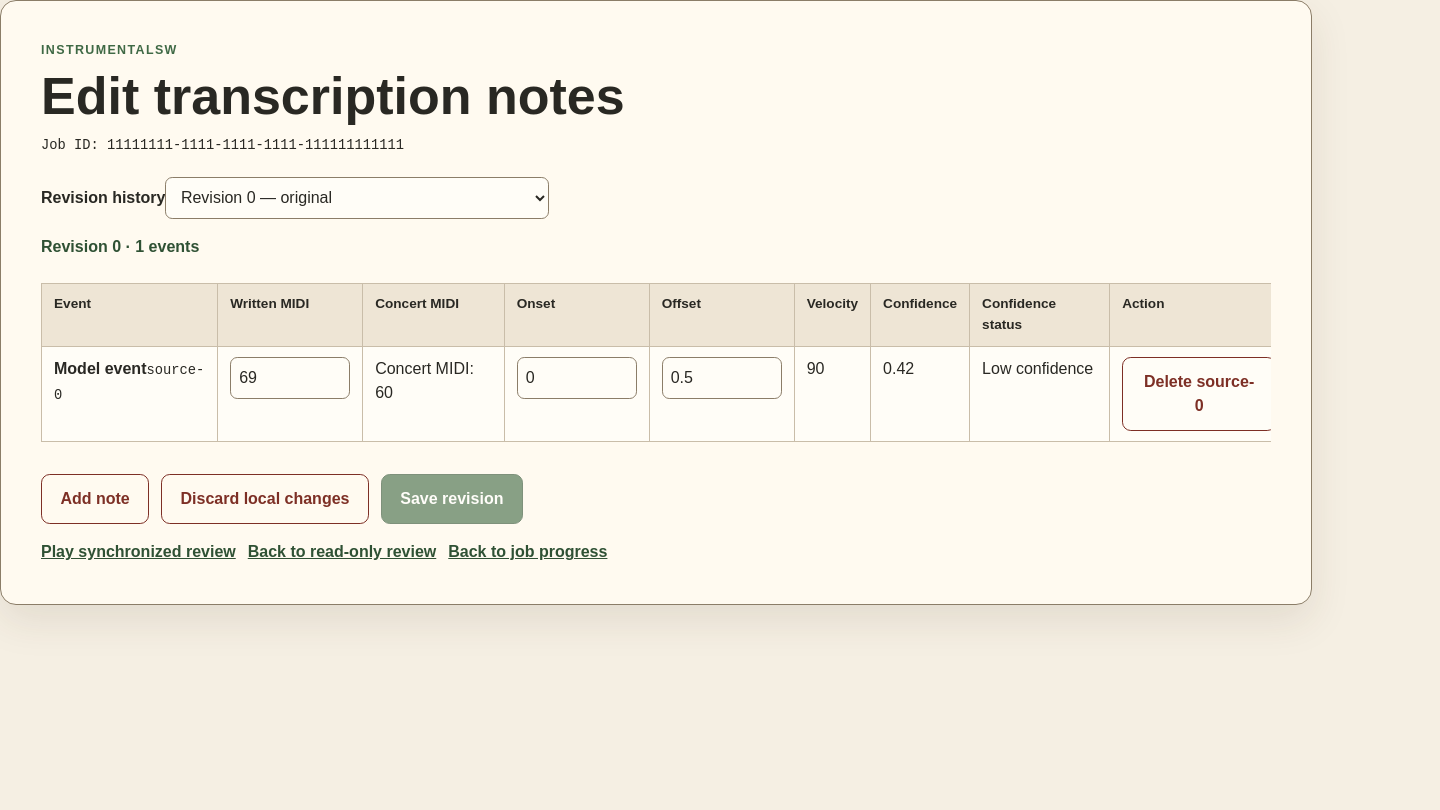
Test: TranscriptionRevisionEditor failure states › keeps the draft after a non-conflict save error
Clear the number field named "Written MIDI for source-0". click: (290,378)
box: x1=230 y1=357 x2=350 y2=399
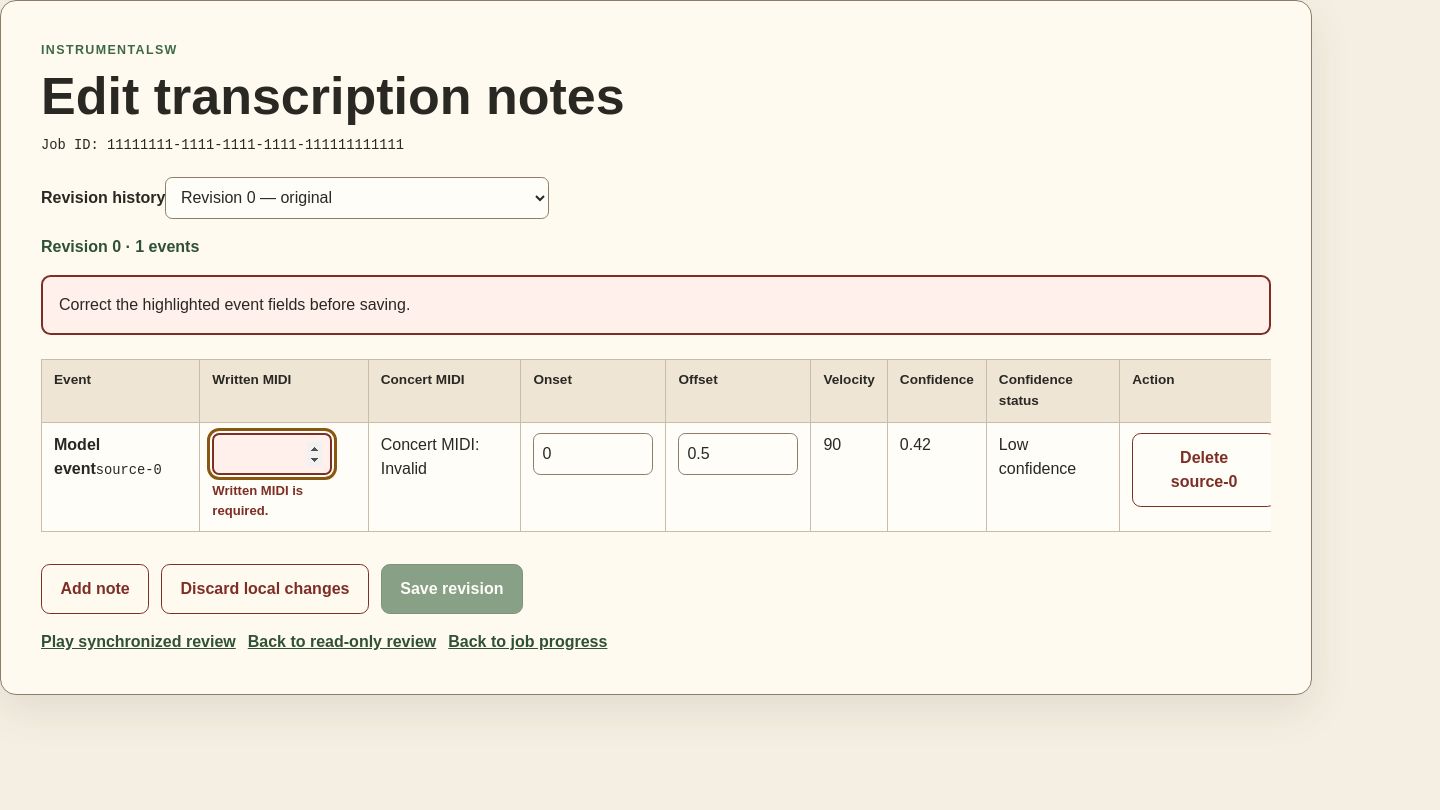
Type "70" into the number field named "Written MIDI for source-0". click: (272,454)
box: x1=212 y1=433 x2=332 y2=475
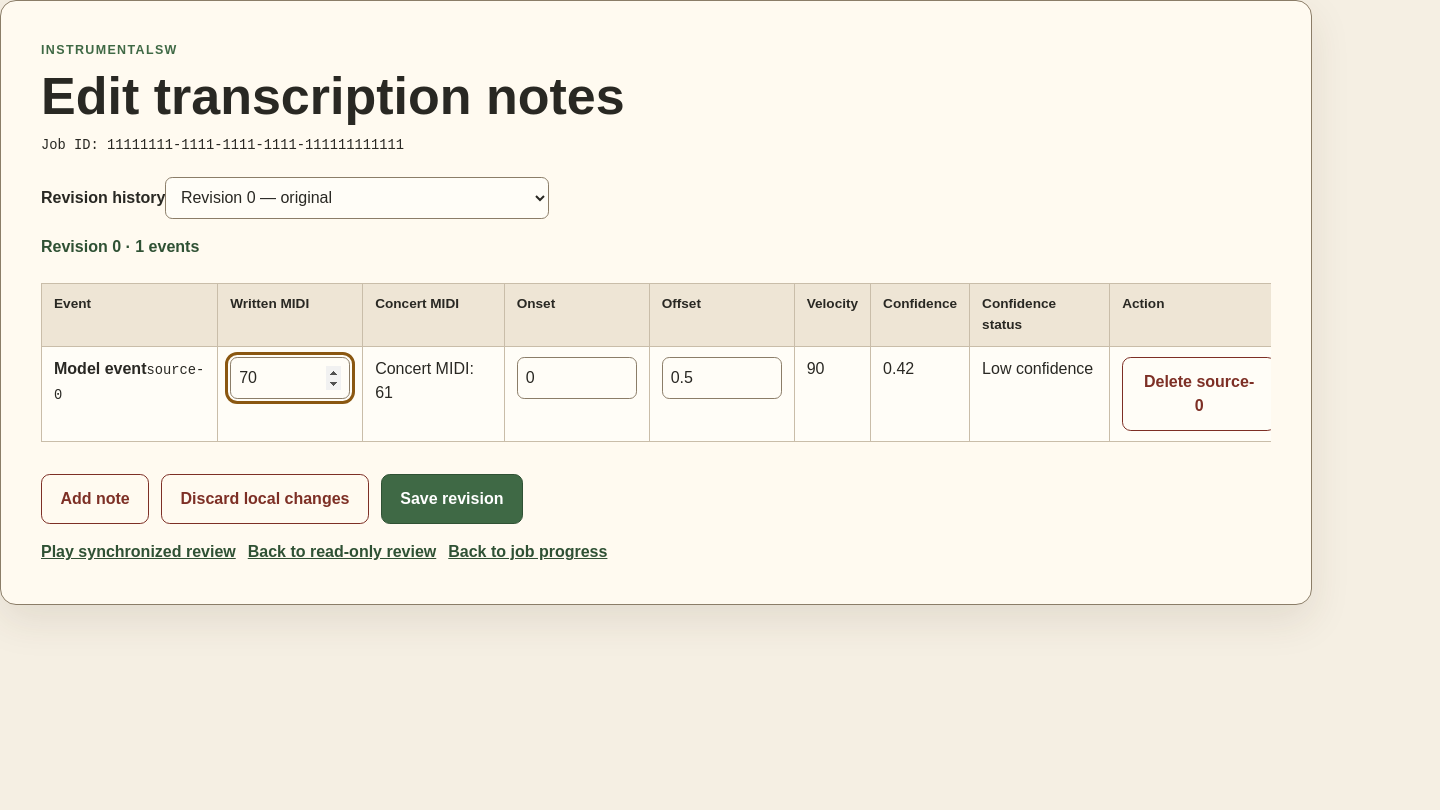
Click the button "Save revision". click: (452,499)
box: x1=381 y1=474 x2=523 y2=524
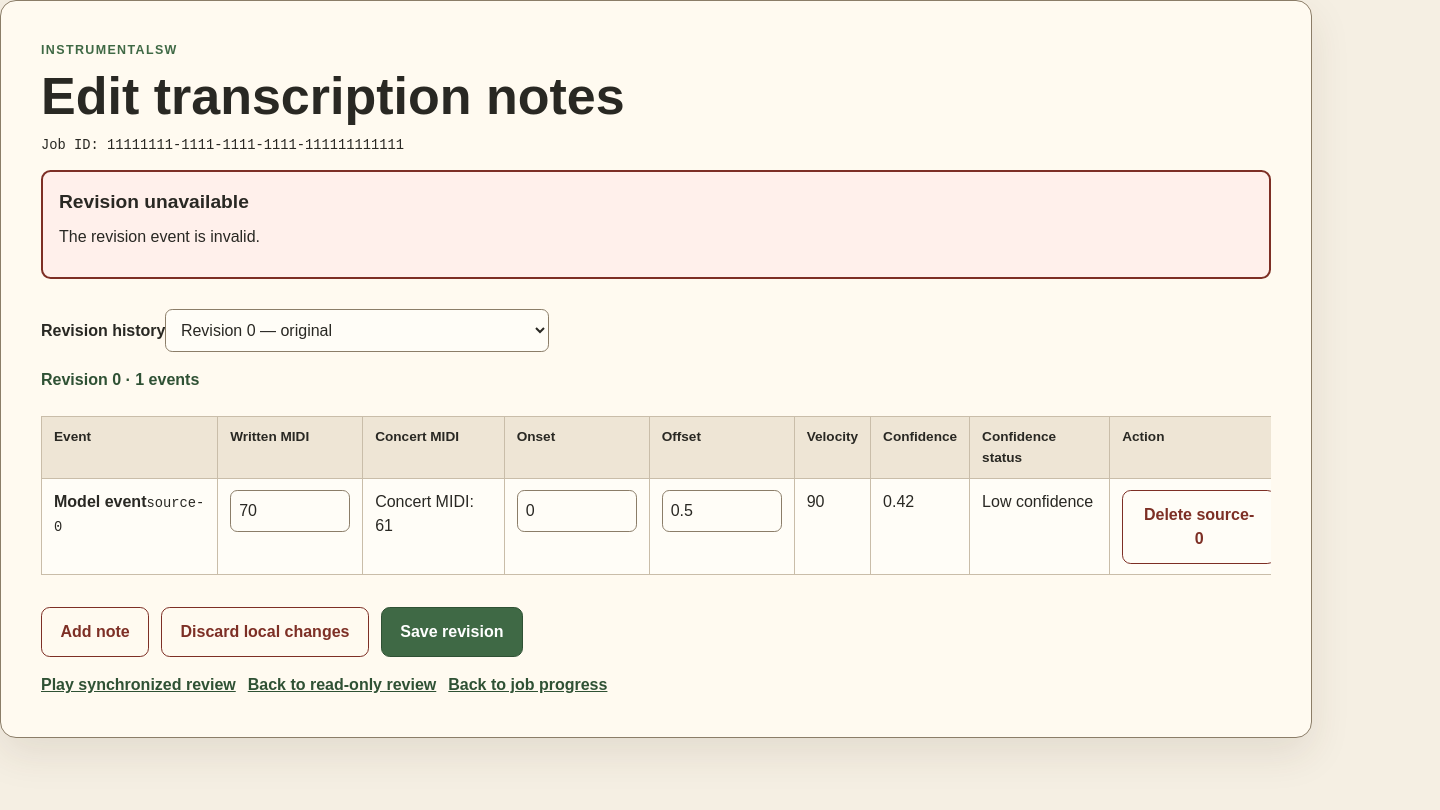
Check: the message shows "The revision event is invalid.", box x1=59 y1=228 x2=260 y2=245
